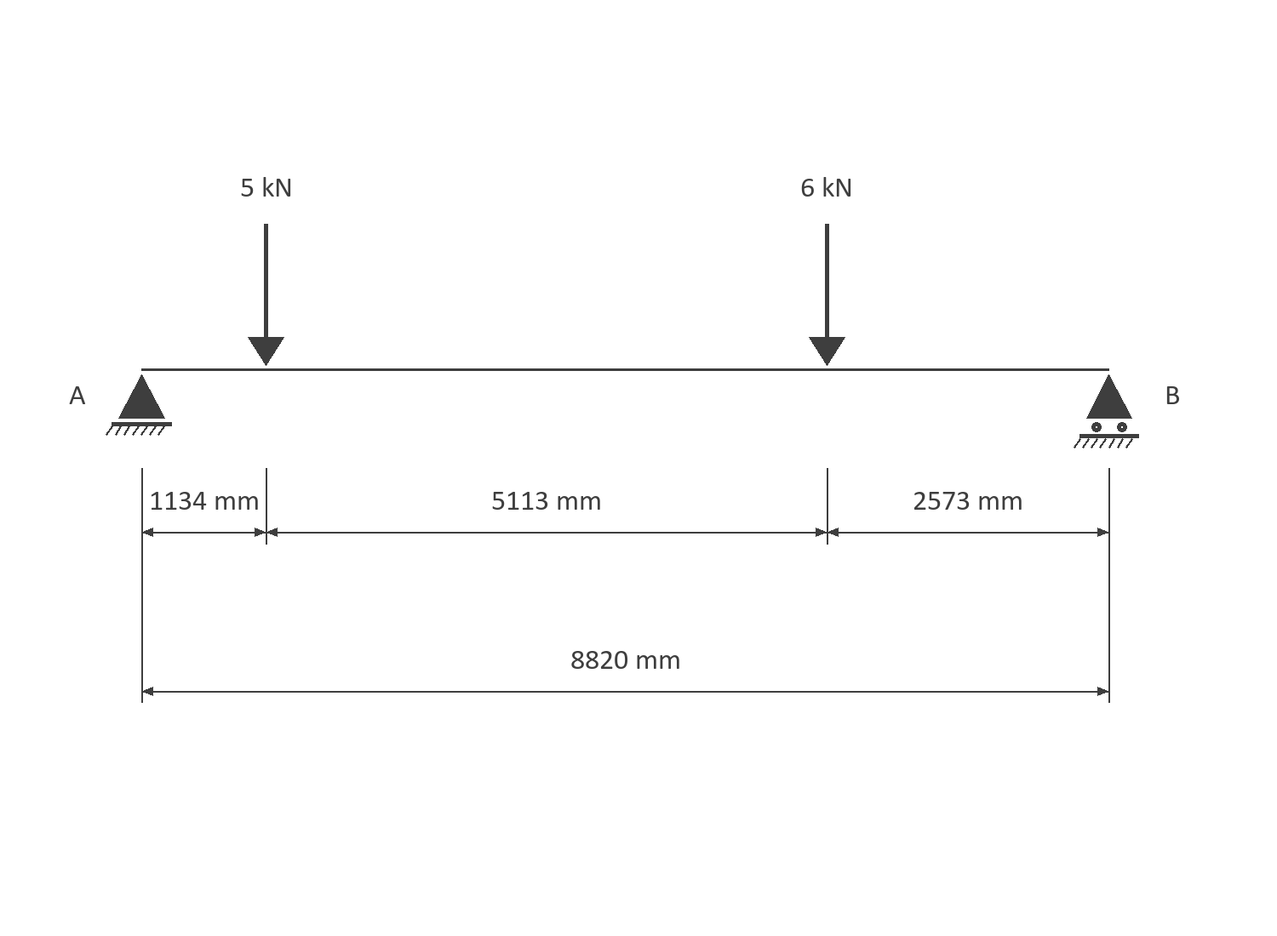pin_support: (106, 374, 172, 436)
point_load: (248, 224, 284, 366), (809, 224, 845, 366)
roller_support: (1074, 374, 1139, 448)
